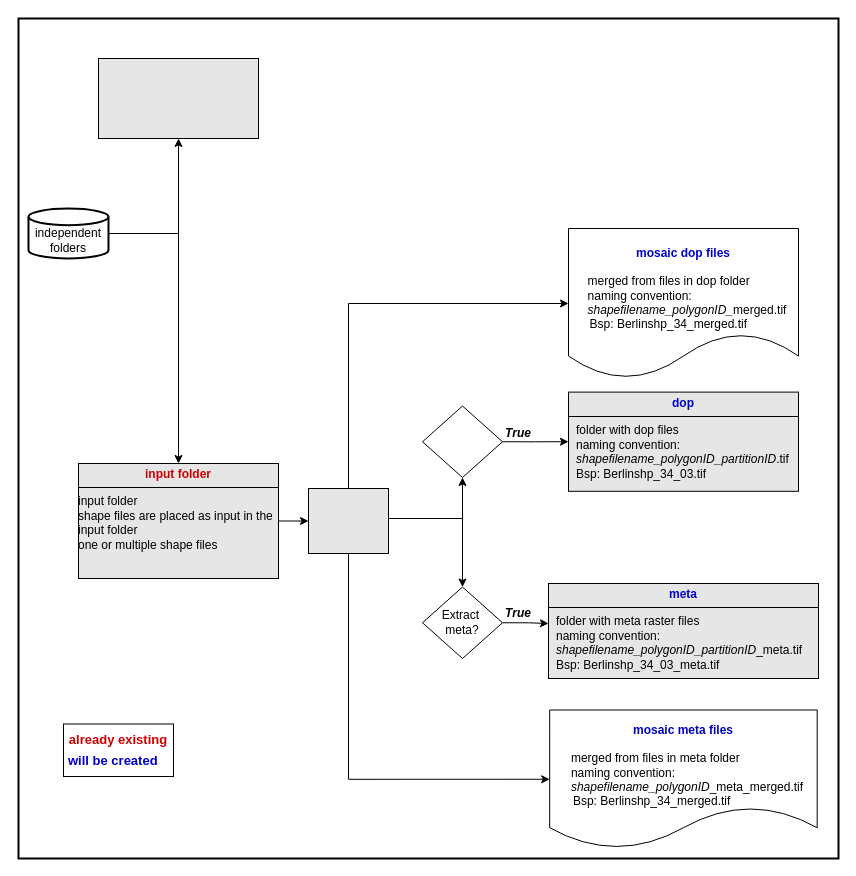
The diagram is 856 pixels wide and 876 high, and some of its shapes have lost their labels. The shapes that lost their labels are listed below. From the top down, each one's centre as x and y in pixels, then its label:
(178,98): Data_acquisition github repository with scripts and csv for input parameters
(462,441): Extract DOPs?
(348,521): output_wms output folder
